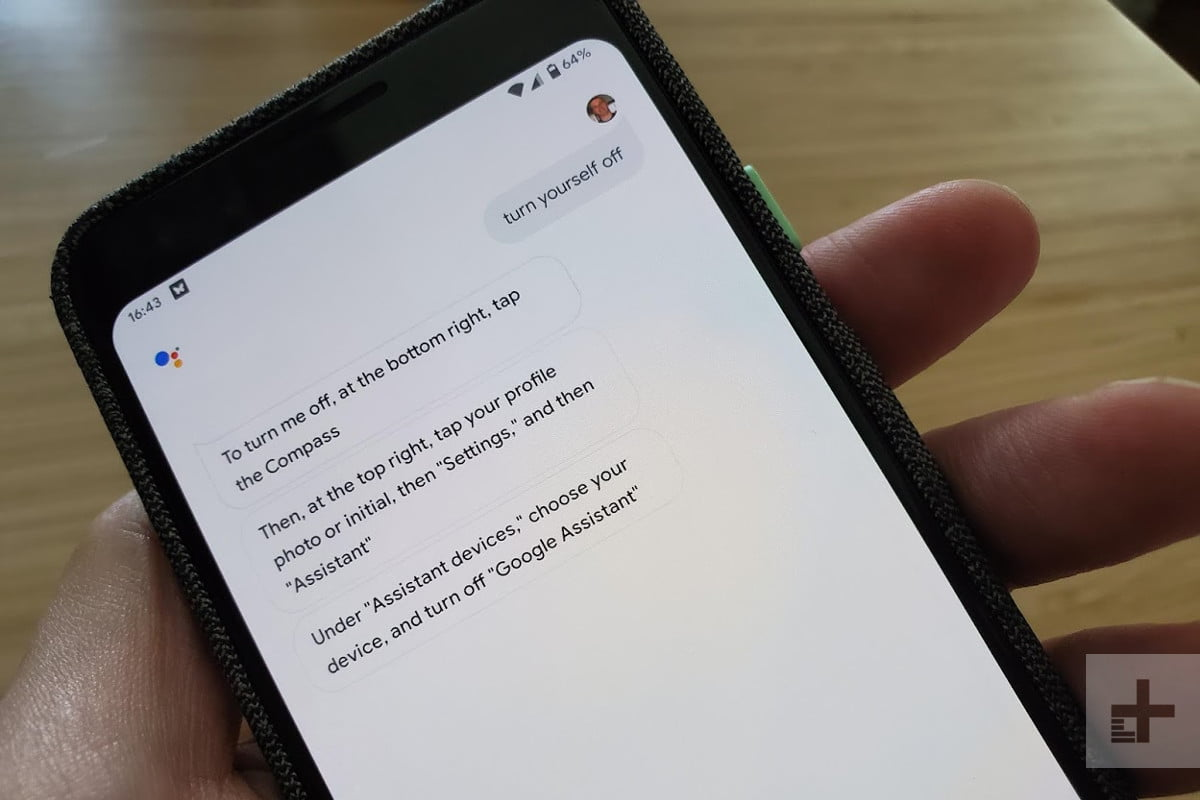Cell Phone: (73, 6, 1107, 800)
